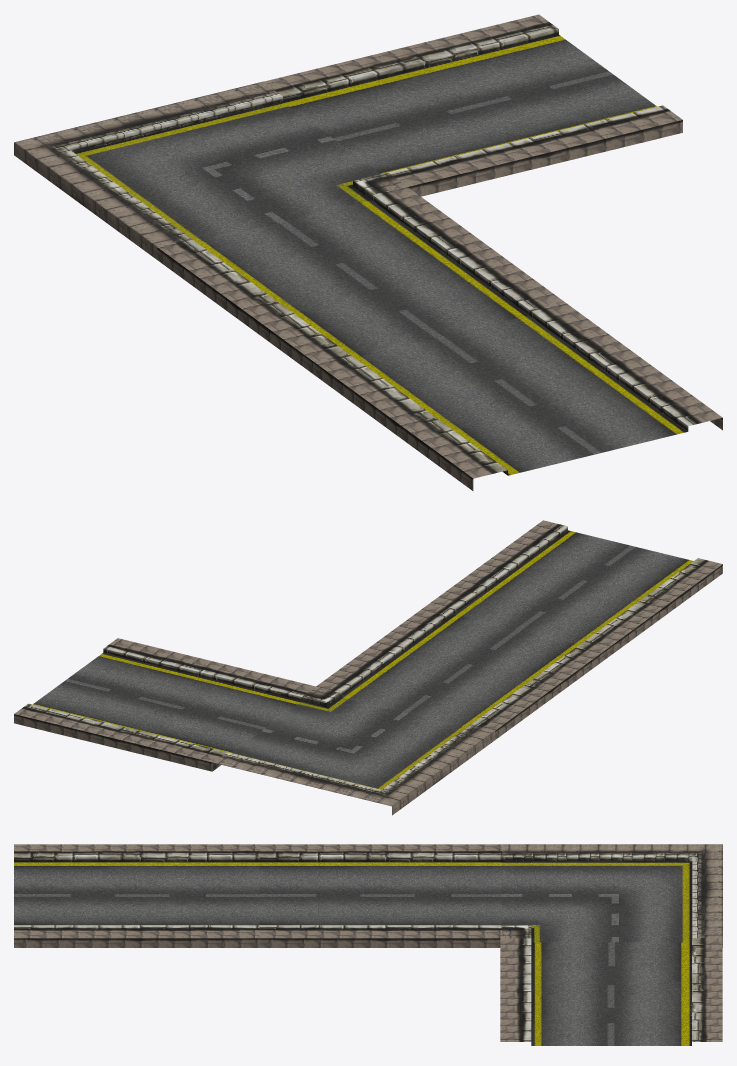
File: street.obj
The picture shows the model from 3 angles, top to bottom: view 1: azimuth 30°, elevation 25°; view 2: azimuth 150°, elevation 25°; view 3: azimuth 270°, elevation 25°; orthographic projection. The views are drawn at different scales.
Parts seen in each view (by area): view 1: Street_1.002_Plane, Street_1.001_Plane, Street_1_Plane, Street_Curve_Plane.004; view 2: Street_1.002_Plane, Street_1.001_Plane, Street_1_Plane, Street_Curve_Plane.004; view 3: Street_1.001_Plane, Street_1_Plane, Street_1.002_Plane, Street_Curve_Plane.004.
Part boxes in pixels (box(x1,y1,x2,y2)): Street_1.002_Plane: box(263, 14, 682, 196); Street_1.001_Plane: box(314, 301, 722, 490); Street_1_Plane: box(157, 186, 563, 374); Street_Curve_Plane.004: box(14, 81, 406, 259); Street_1.002_Plane: box(14, 638, 315, 771); Street_1.001_Plane: box(429, 520, 722, 656); Street_1_Plane: box(316, 604, 608, 739); Street_Curve_Plane.004: box(212, 687, 495, 815); Street_1.001_Plane: box(14, 844, 259, 947); Street_1_Plane: box(259, 844, 505, 947); Street_1.002_Plane: box(500, 938, 722, 1045); Street_Curve_Plane.004: box(502, 844, 722, 947).
Size of the model in its own units: 47.7 by 1.12 by 72.32.
Materials: 2 (2 with a texture image).
